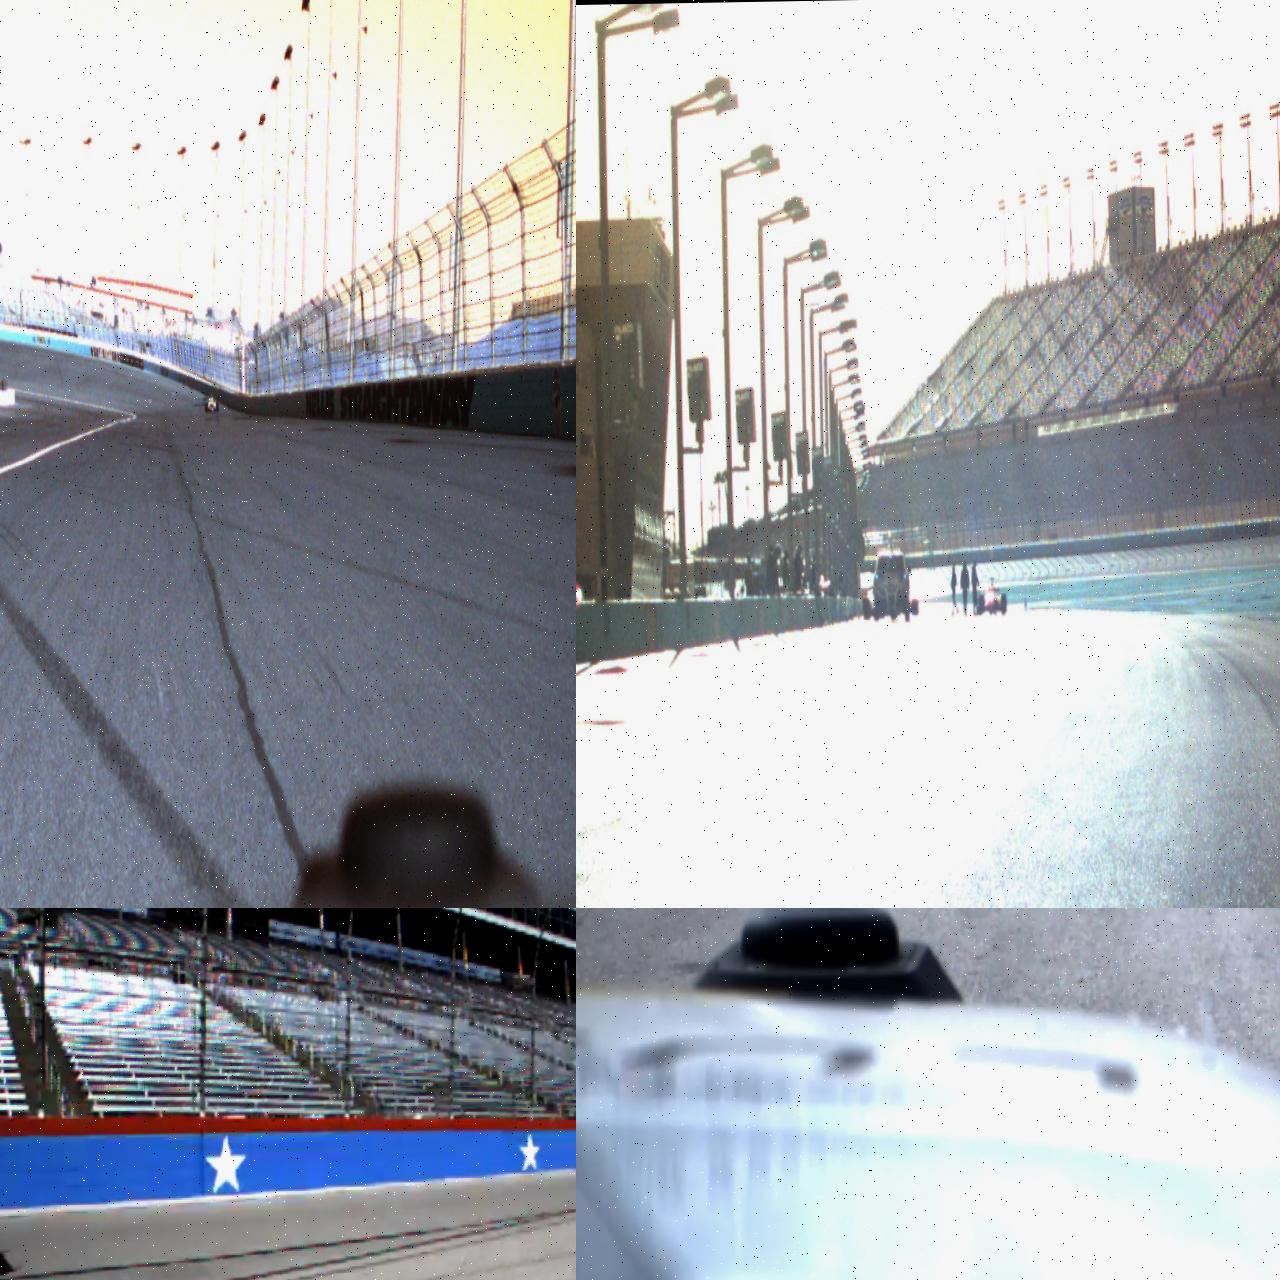AV: (978, 577, 1008, 614), (205, 392, 219, 412)
Wheel: (863, 598, 870, 620), (1001, 594, 1007, 614), (912, 598, 918, 615), (979, 596, 985, 612), (216, 401, 219, 411), (205, 403, 208, 412)
